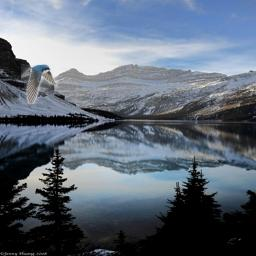Swallow: (21, 64, 58, 104)
